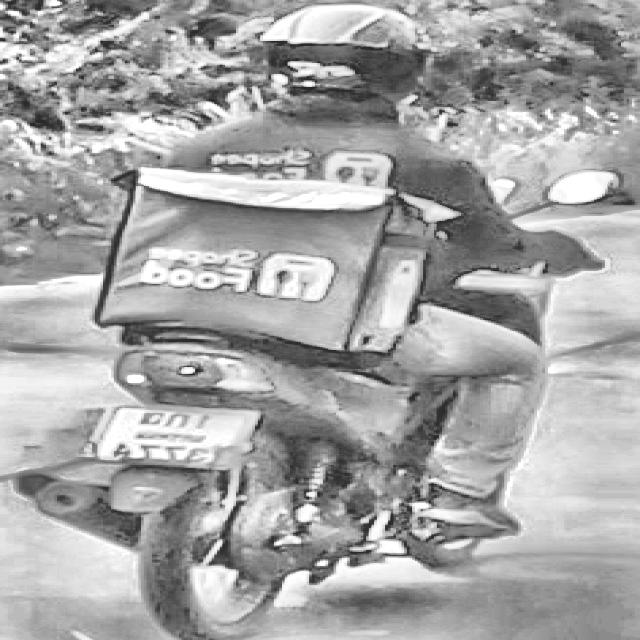Helmet: (225, 0, 450, 120)
